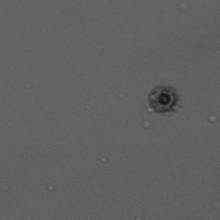Dead Cell: (150, 83, 179, 114)
